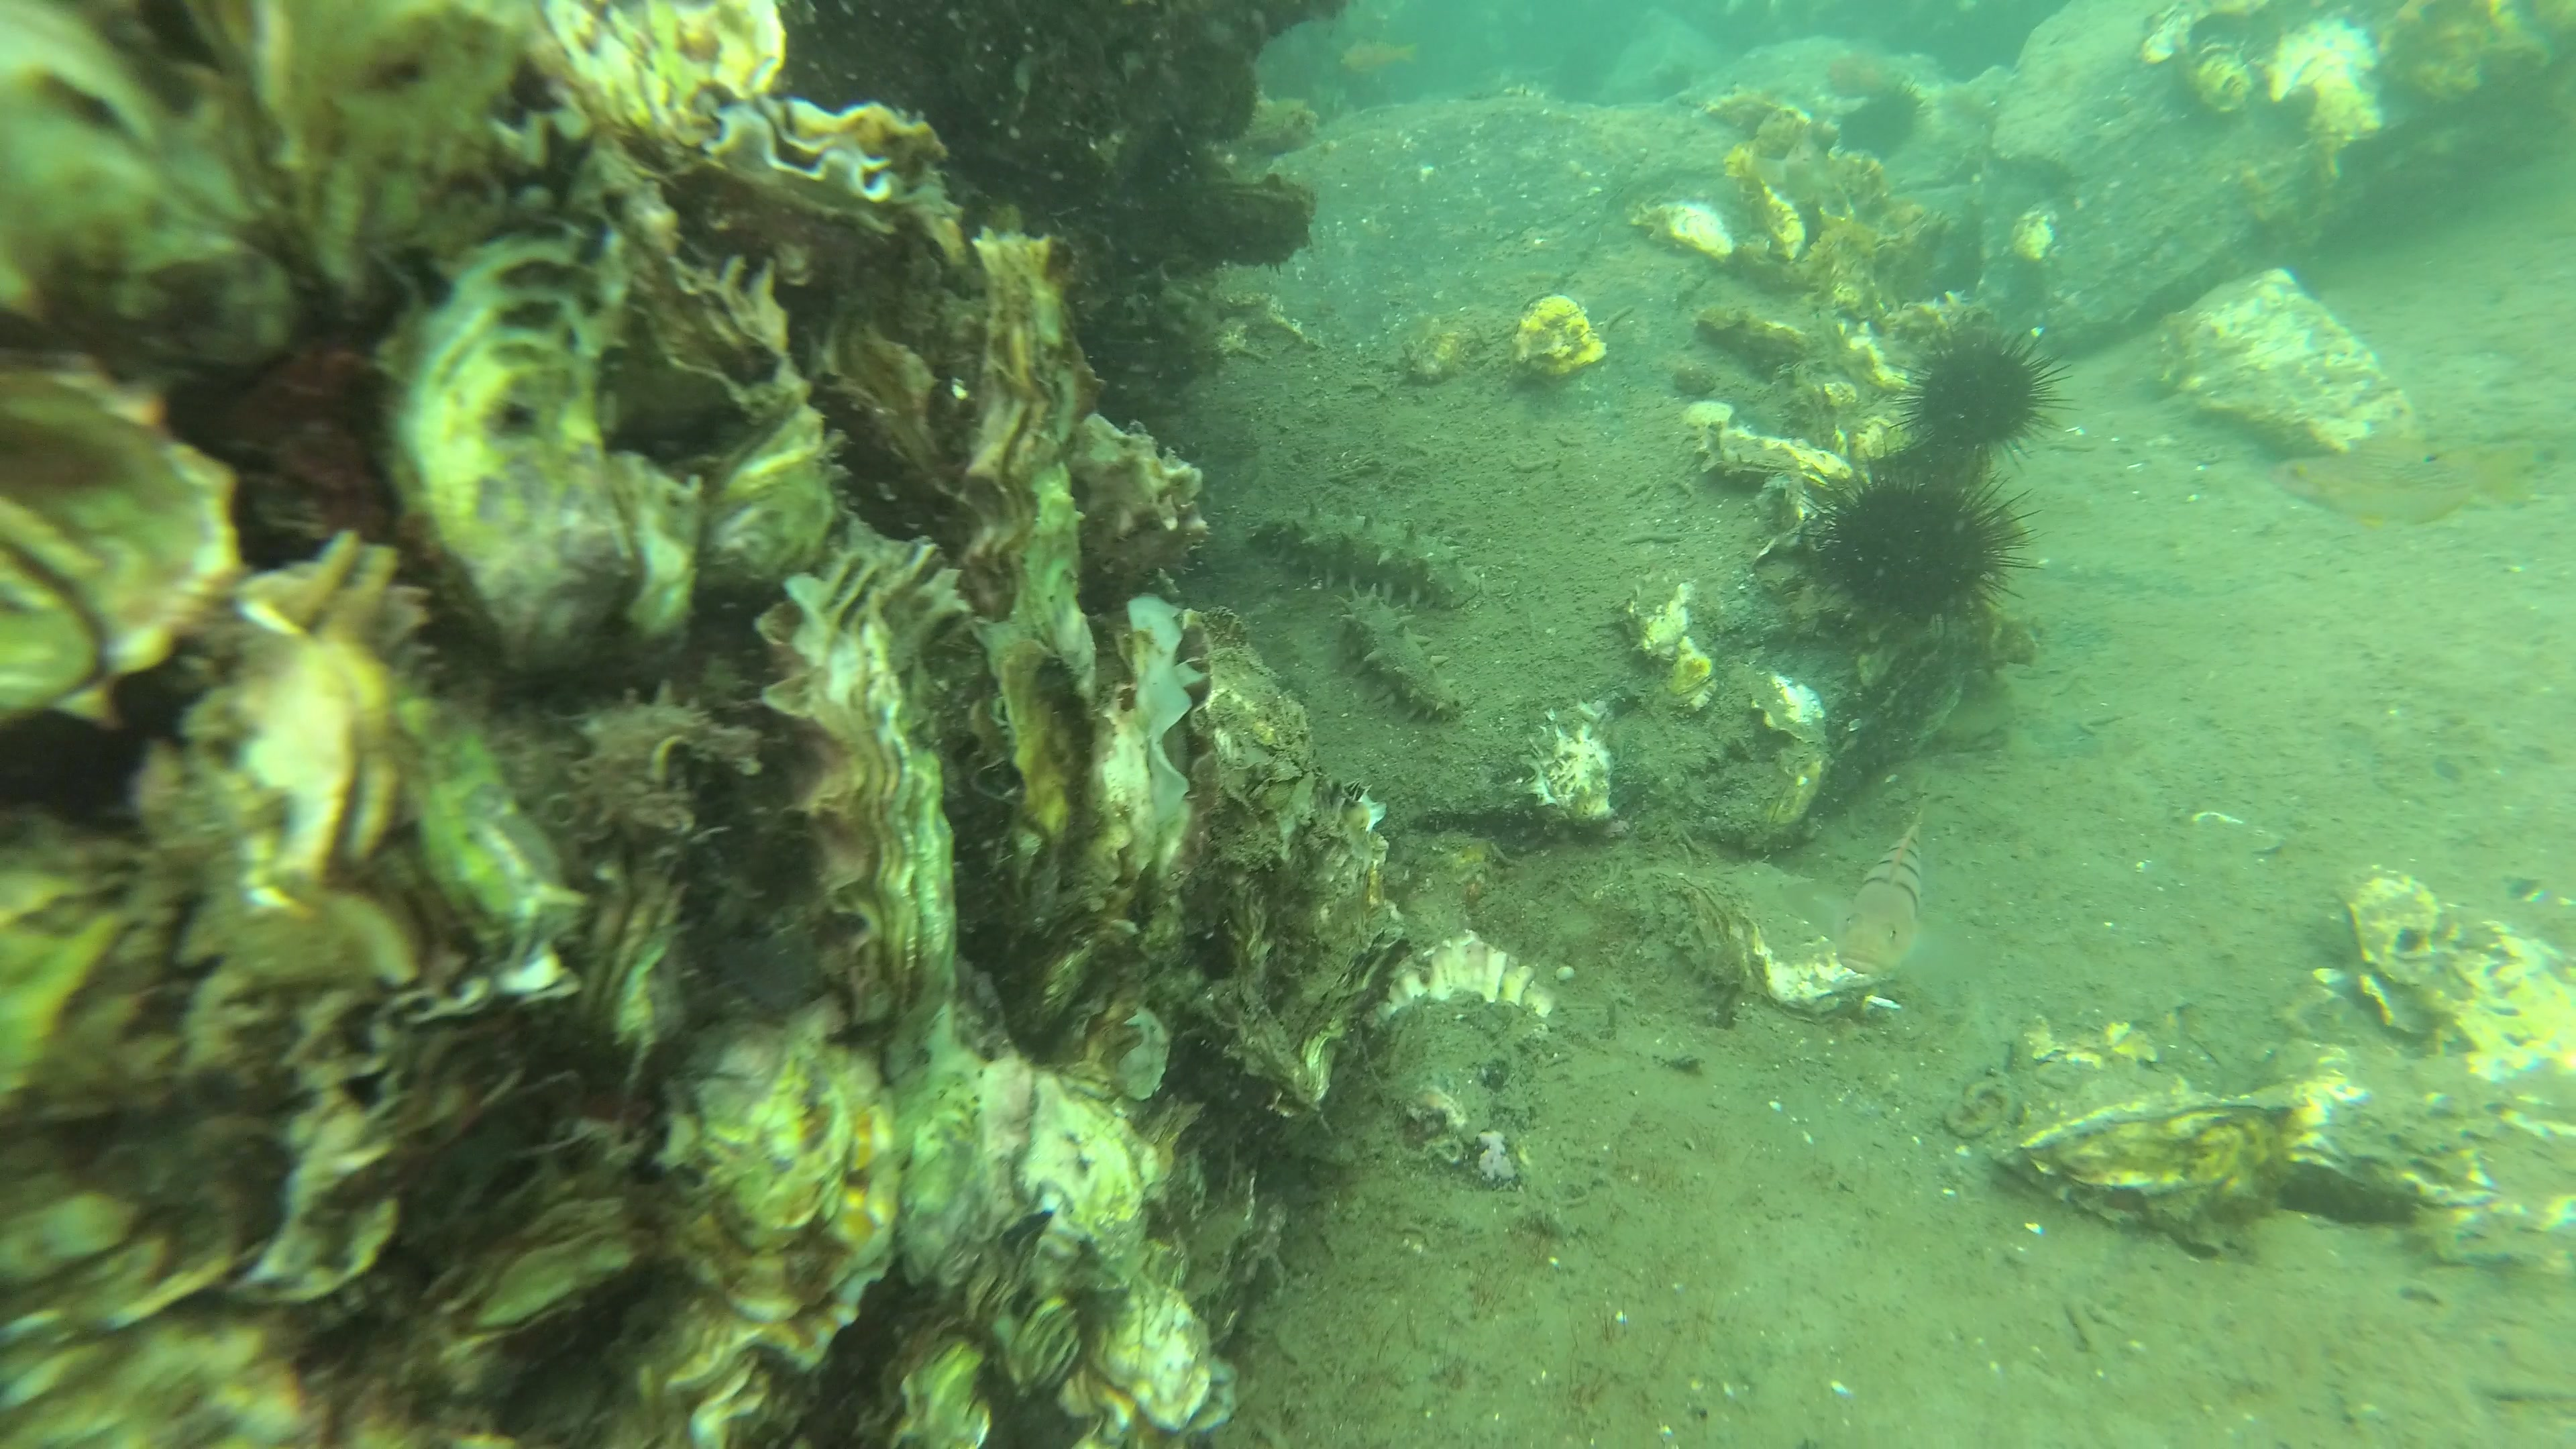echinus: (1787, 456, 2049, 649), (1891, 334, 2066, 467)
holothurian: (1246, 499, 1484, 614), (1346, 598, 1468, 734)
